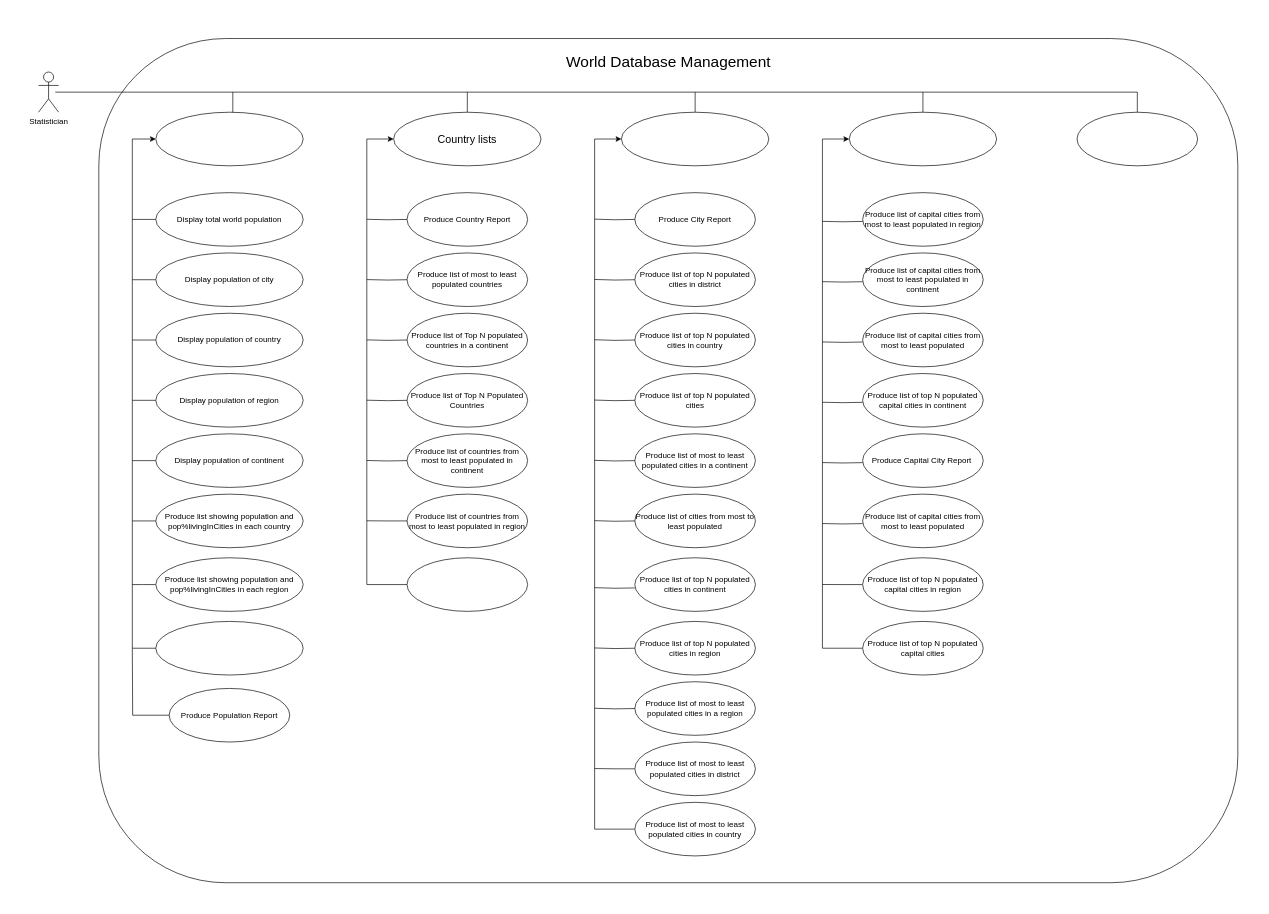
Some shapes in this 1269 by 914 pixel diagram are drawn without their labels. The shapes that lost their labels are listed below. From the top down, each one's box as (x1, y1, x2, y2) in pixels, then its label:
(155, 112, 303, 166): Population lists
(621, 112, 769, 166): City Lists
(849, 112, 997, 166): Capital City lists
(1076, 112, 1198, 166): Produce Language Report
(406, 557, 528, 611): Produce list of top N populated countries in region
(155, 621, 303, 675): Produce list showing population and pop%livingInCities in each continent
